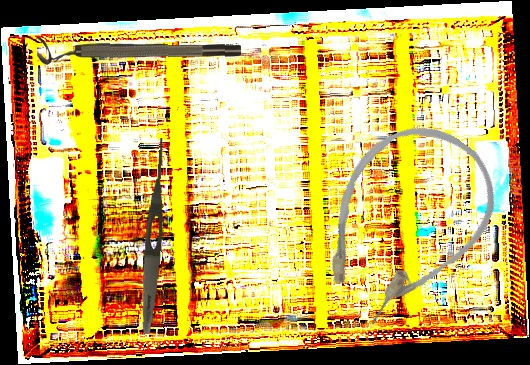Cannula: (287, 100, 519, 346)
Dressing Forceps: (137, 137, 170, 335)
Fixation Ring: (36, 37, 242, 69)
